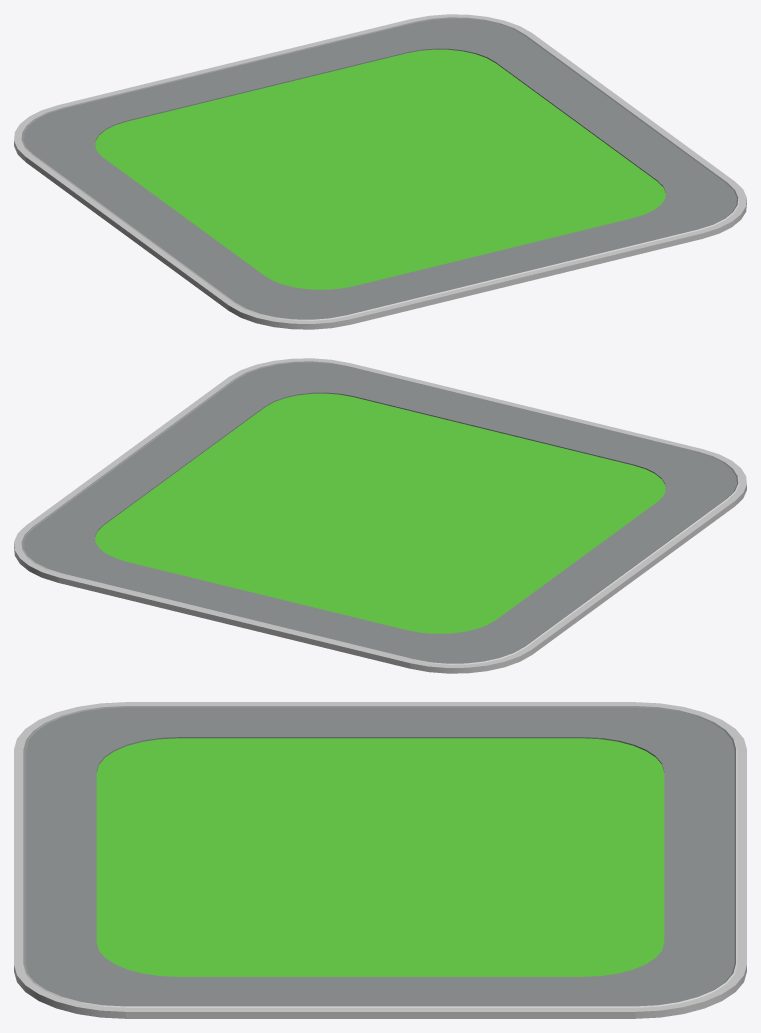
The model's file is quadra01.FBX.
The picture shows the model from 3 angles, top to bottom: view 1: azimuth 30°, elevation 25°; view 2: azimuth 150°, elevation 25°; view 3: azimuth 270°, elevation 25°; orthographic projection. The views are drawn at different scales.
Parts seen in each view (by area): view 1: Plane008, Rectangle002; view 2: Plane008, Rectangle002; view 3: Plane008, Rectangle002.
Part boxes in pixels (bbox=[...]): Plane008: bbox=[95, 49, 665, 289]; Rectangle002: bbox=[14, 14, 746, 329]; Plane008: bbox=[95, 393, 665, 633]; Rectangle002: bbox=[14, 358, 746, 673]; Plane008: bbox=[96, 738, 664, 976]; Rectangle002: bbox=[14, 702, 746, 1018].
Size of the model in its own units: 722 by 8.47 by 722.
